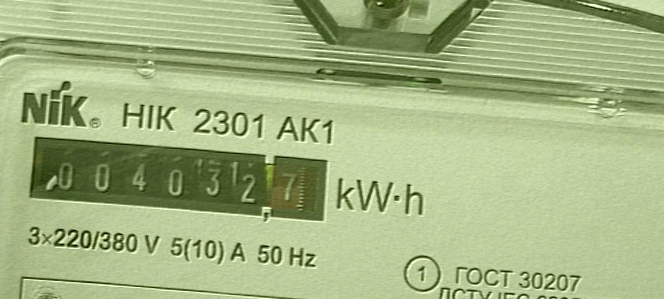0: (92, 161, 114, 195), (166, 165, 187, 200), (56, 159, 77, 193)
2: (240, 171, 260, 206)
3: (204, 166, 224, 199)
4: (129, 160, 151, 197)
7: (281, 171, 300, 205)
screen: (19, 128, 338, 235)
